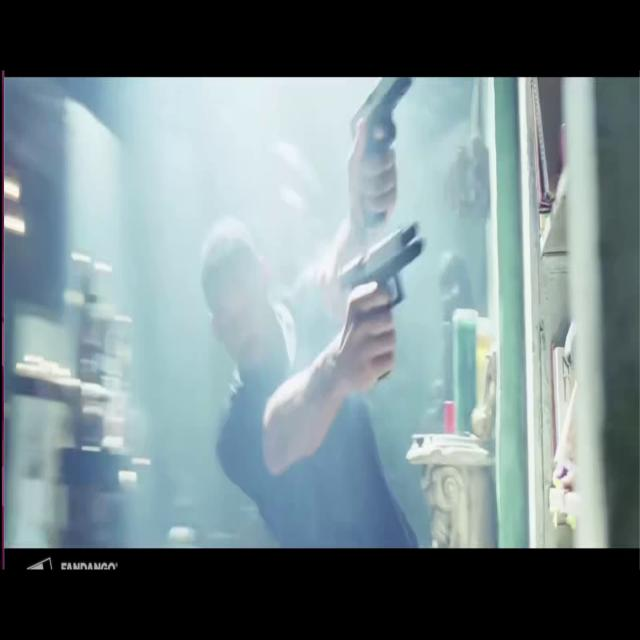weapons: (335, 214, 429, 348), (342, 76, 427, 194)
